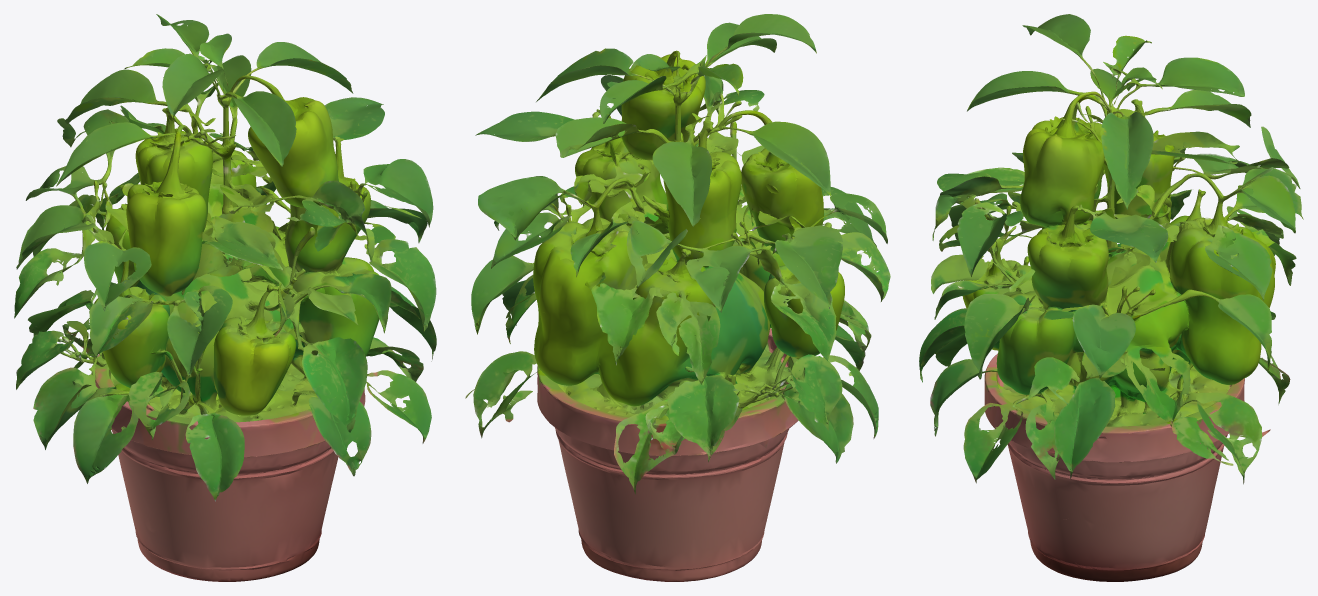
Rendered from paprika.glb.
3 renders of one model, left to right at view 1: azimuth 30°, elevation 25°; view 2: azimuth 150°, elevation 25°; view 3: azimuth 270°, elevation 25°, orthographic. The views are drawn at different scales.
Visible parts, largest first — view 1: model; view 2: model; view 3: model.
Part boxes in pixels (x1,y1,x2,y2): model: (14,14,436,581); model: (465,14,890,581); model: (919,14,1303,581).
Size of the model in its own units: 1.43 by 1.9 by 1.34.
Materials: 1 (1 with a texture image).
